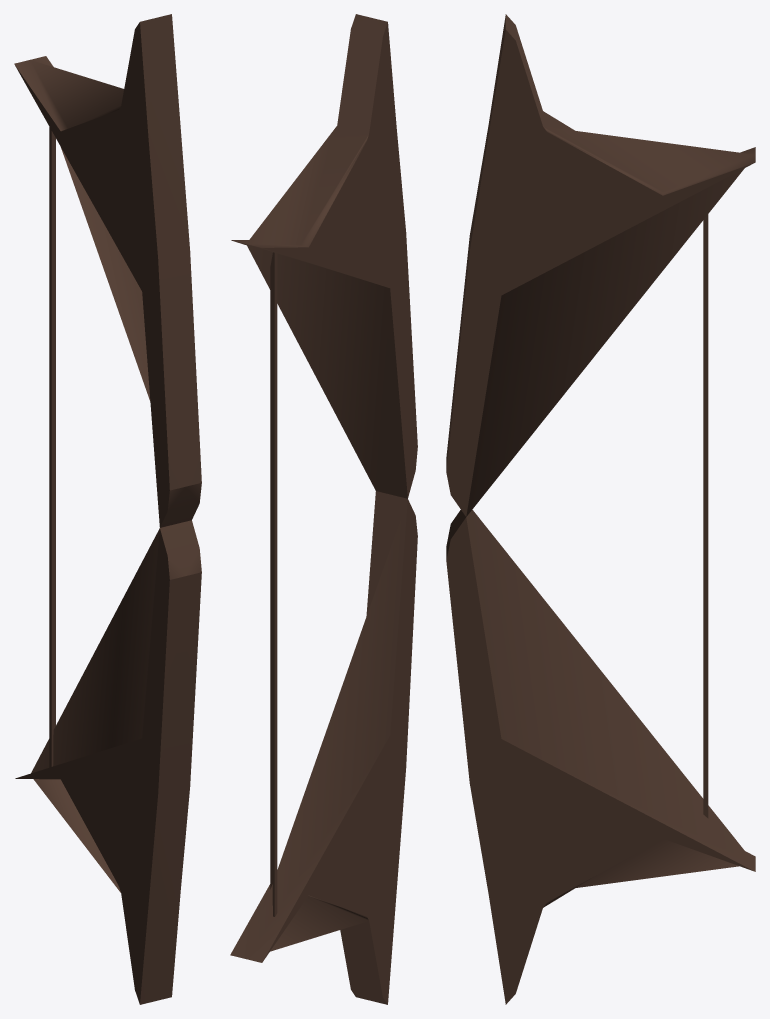
Rendered from Archer_Weapon.fbx.
3 views of the same model, side by side, from view 1: azimuth 30°, elevation 25°; view 2: azimuth 150°, elevation 25°; view 3: azimuth 270°, elevation 25° (orthographic).
Parts seen in each view (by area): view 1: pCube27; view 2: pCube27; view 3: pCube27.
Part boxes in pixels (bbox=[...]): pCube27: bbox=[14, 14, 201, 1004]; pCube27: bbox=[230, 14, 417, 1004]; pCube27: bbox=[446, 14, 755, 1004].
Bounding box in the file's own units: 0.75 × 22 × 6.32.
